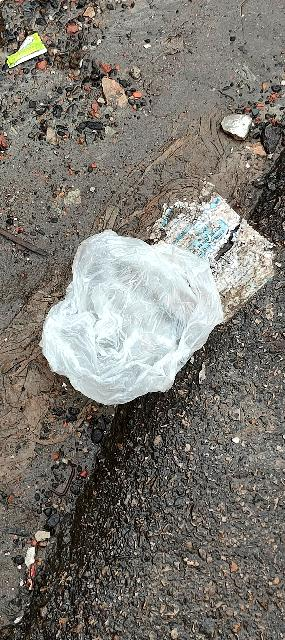polythene: (52, 238, 216, 408)
